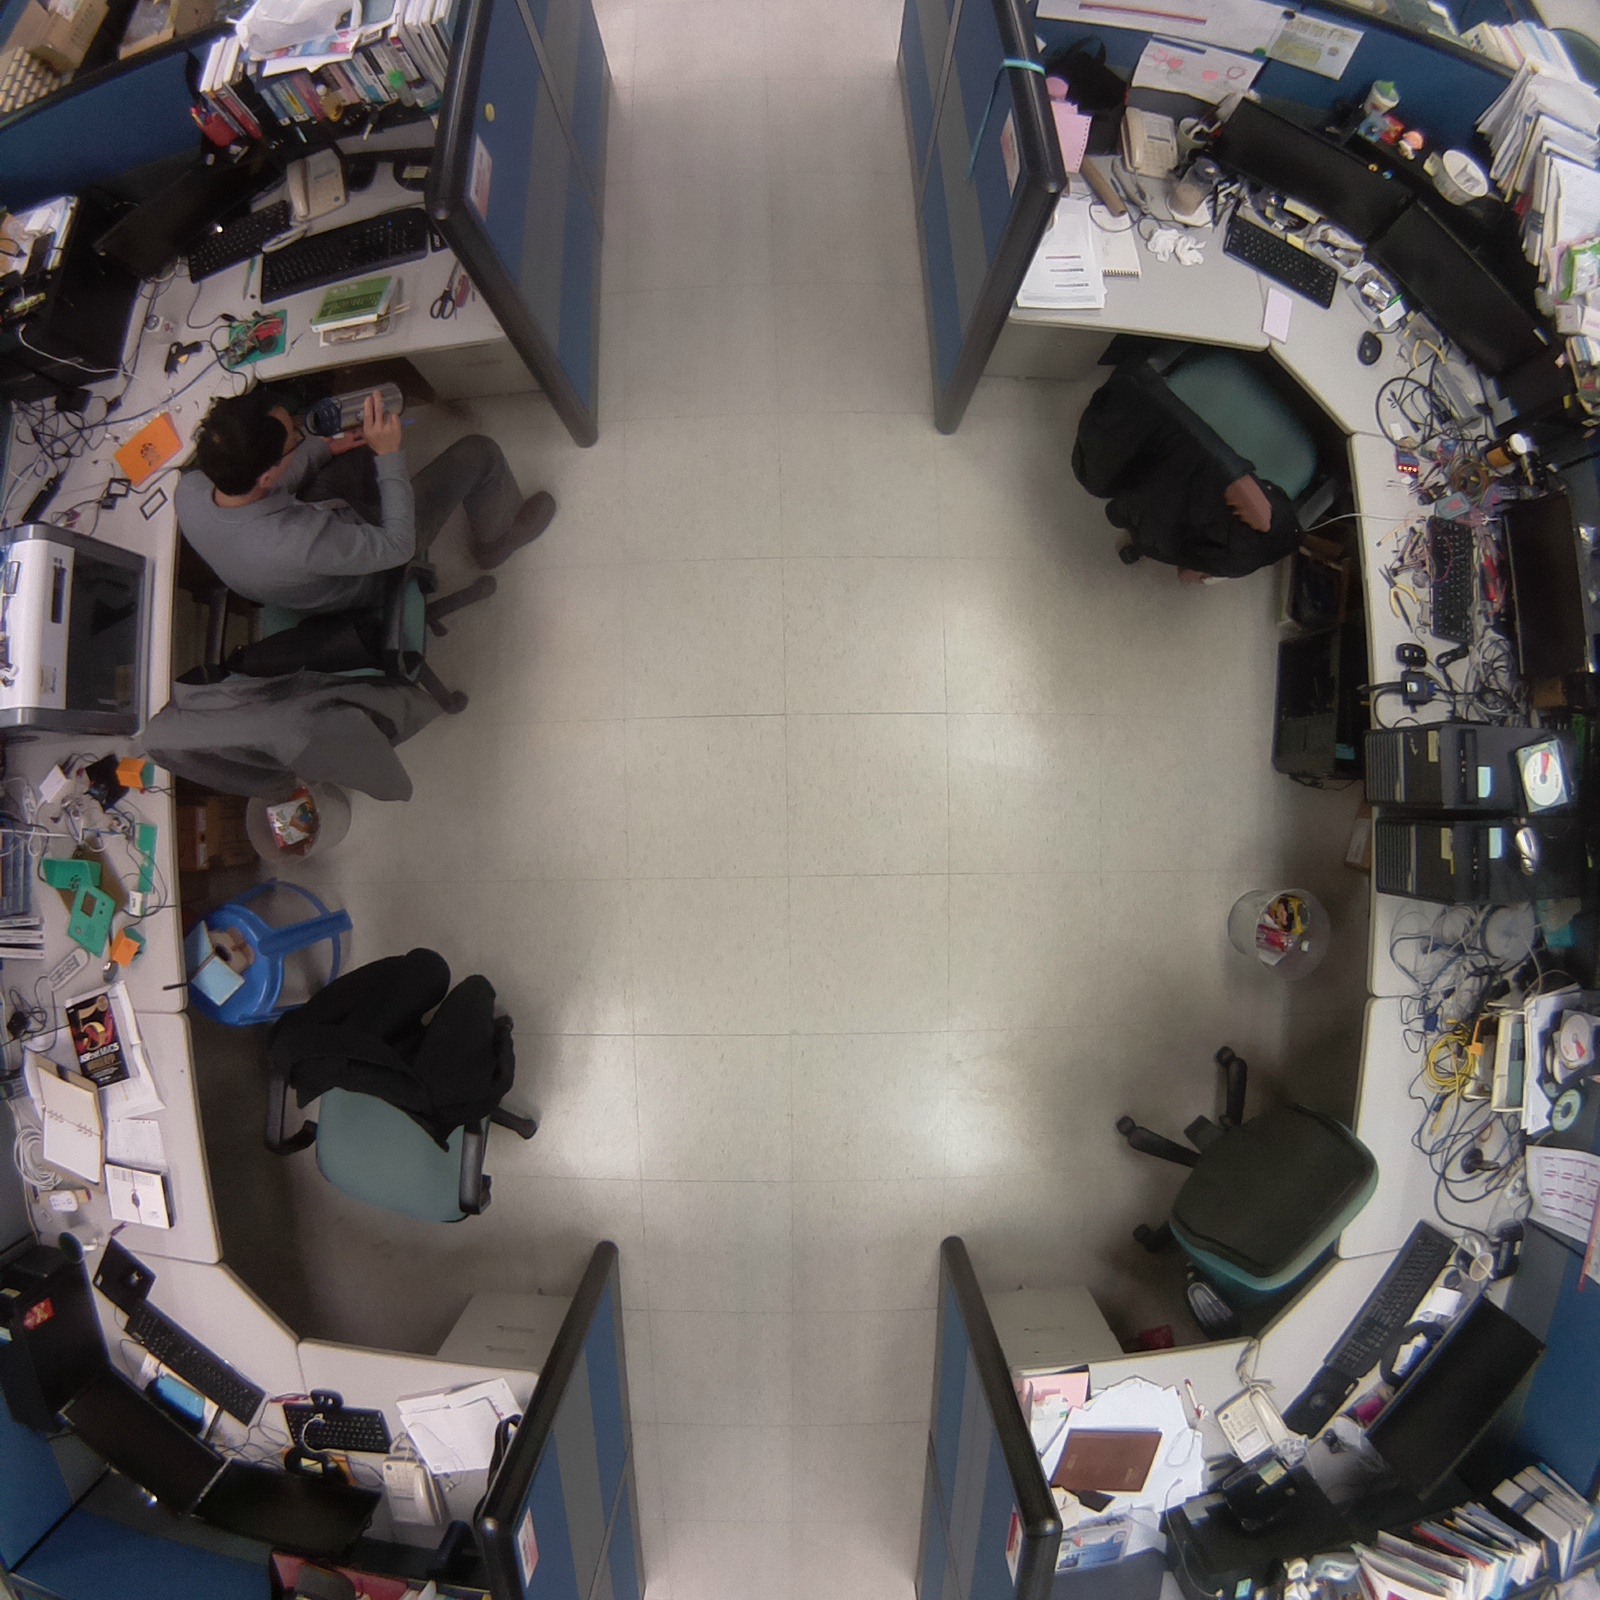chair: (237, 927, 561, 1248), (1056, 308, 1377, 611), (1090, 1033, 1399, 1342)
sitting: (89, 355, 577, 838)
